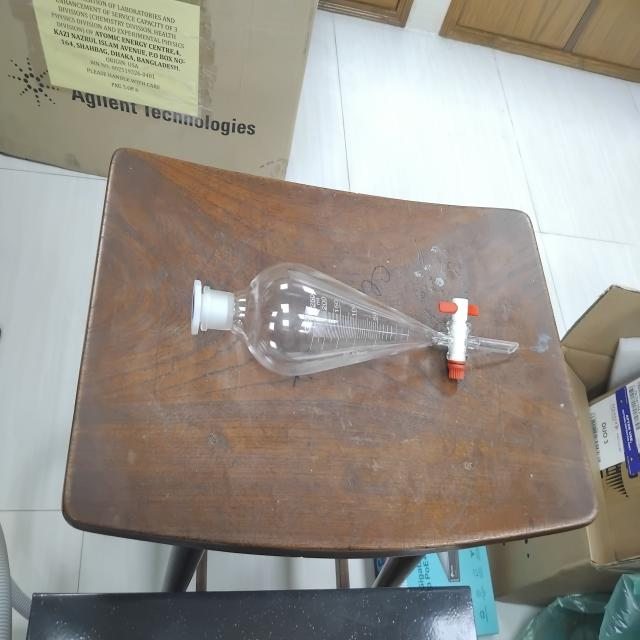Separating_Funnel: (169, 227, 555, 457)
